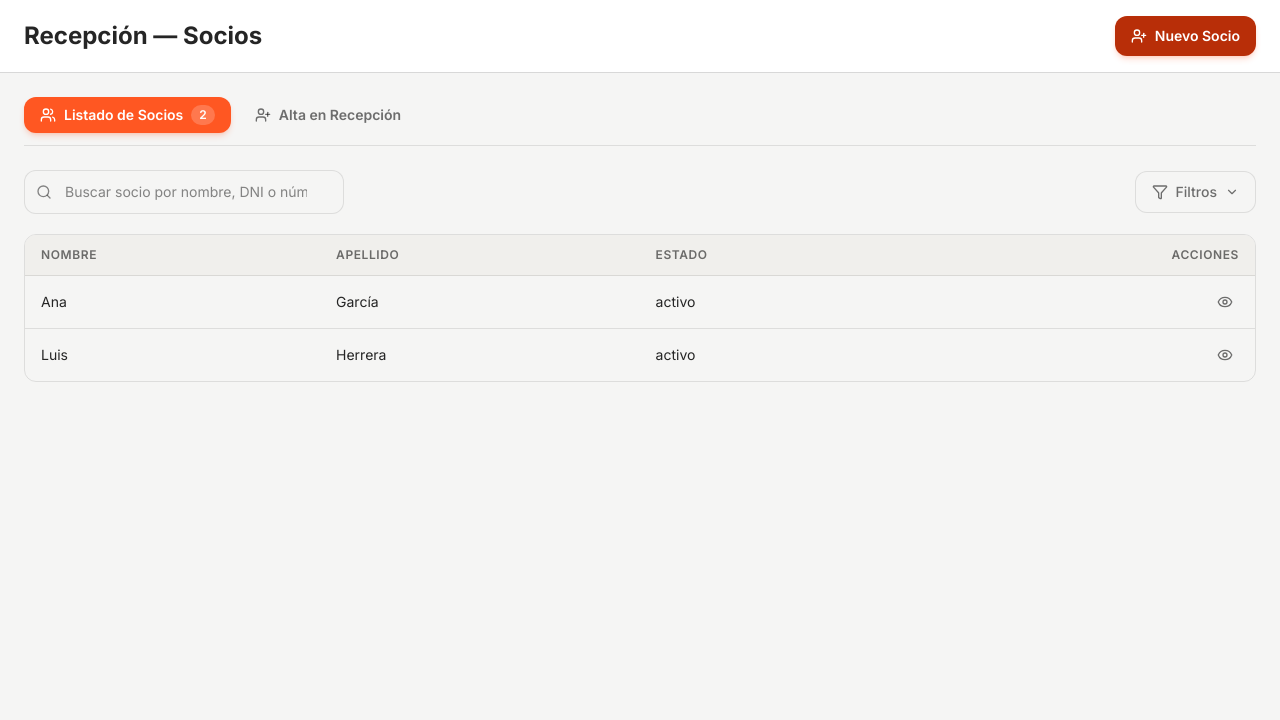
Scenario: GestionSociosPage › switches to form tab when "Alta en Recepción" is clicked
Expected: the text "Alta en Recepción" is shown, [279, 105, 401, 125]
Click the tab "Alta en Recepción" at [328, 115], box [239, 97, 417, 133]
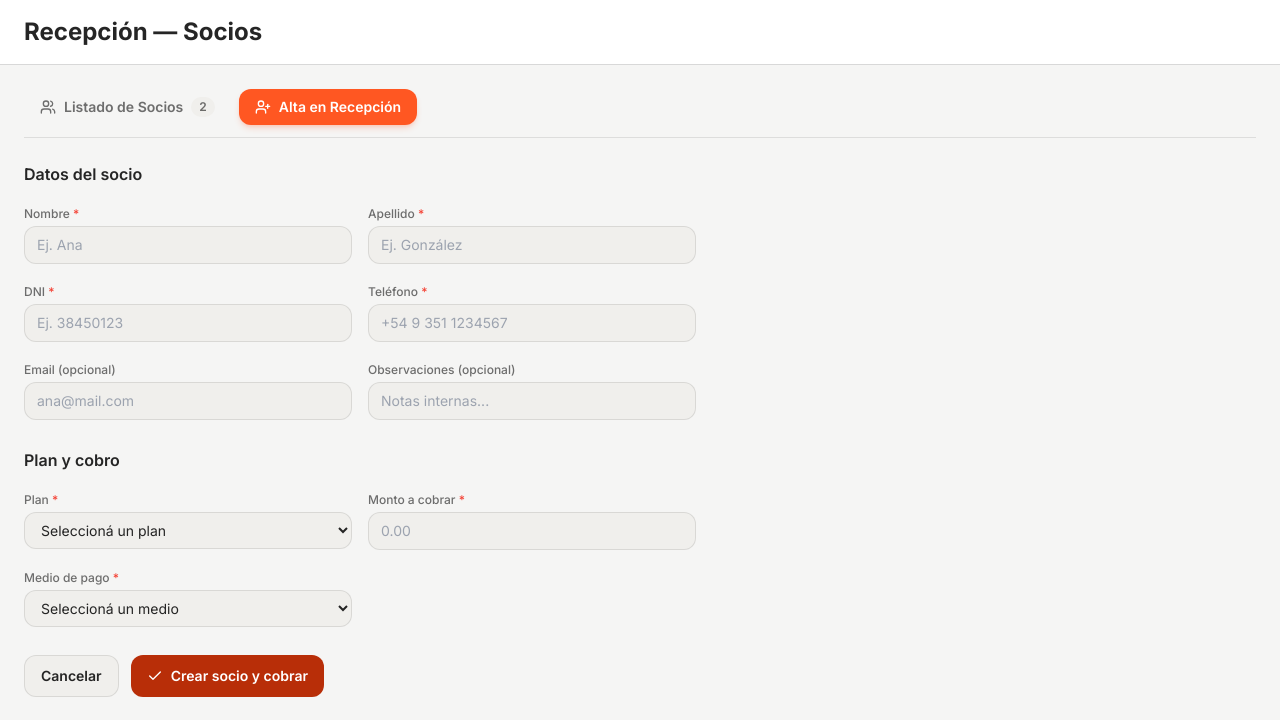
Expected: the heading "Datos del socio" is shown, [24, 164, 142, 184]
